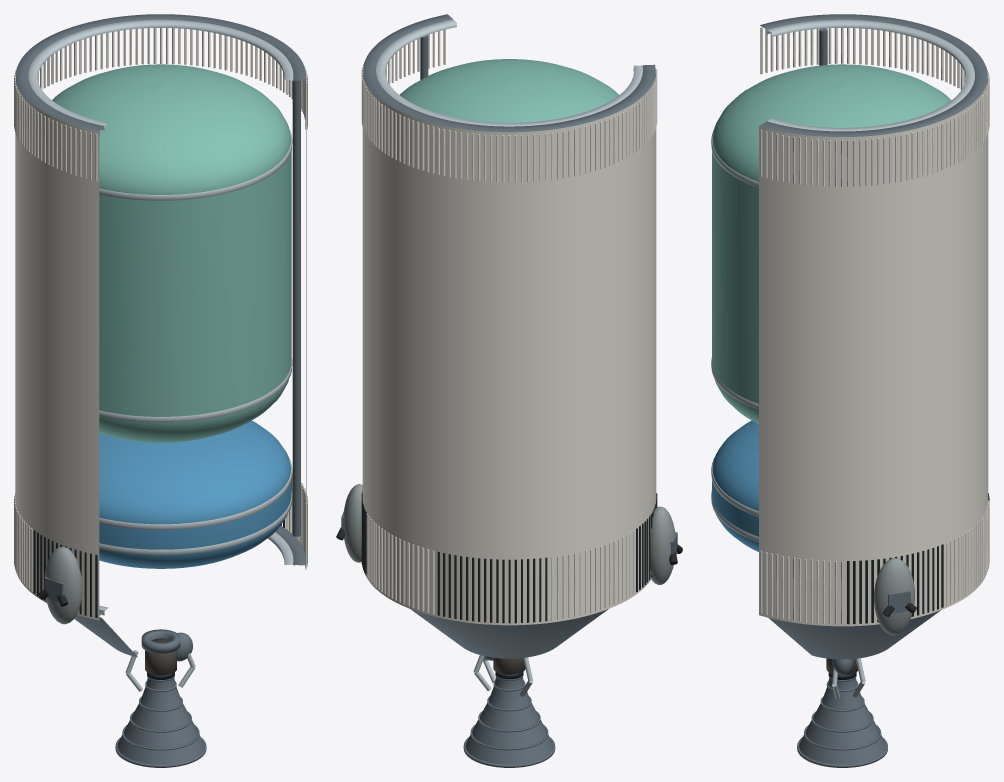
Rendered from s_ivb_cutaway.glb.
The picture shows the model from 3 angles, left to right: view 1: azimuth 30°, elevation 25°; view 2: azimuth 150°, elevation 25°; view 3: azimuth 270°, elevation 25°; orthographic projection.
Parts seen in each view (by area): view 1: s_ivb.cutaway.lh2_tank.mesh, s_ivb.skin.mesh, s_ivb.cutaway.lox_tank.mesh, s_ivb.mesh, s_ivb.j2_01.nozzle.mesh, s_ivb.cutaway.mesh, s_ivb.aps_02.mesh, s_ivb.j2_01.mesh; view 2: s_ivb.skin.mesh, s_ivb.mesh, s_ivb.cutaway.lh2_tank.mesh, s_ivb.j2_01.nozzle.mesh, s_ivb.aps_02.mesh, s_ivb.aps_01.mesh, s_ivb.j2_01.mesh; view 3: s_ivb.skin.mesh, s_ivb.cutaway.lh2_tank.mesh, s_ivb.mesh, s_ivb.j2_01.nozzle.mesh, s_ivb.cutaway.lox_tank.mesh, s_ivb.aps_01.mesh, s_ivb.j2_01.mesh.
Part boxes in pixels (bbox=[...]): s_ivb.cutaway.lh2_tank.mesh: bbox=[52, 64, 292, 442]; s_ivb.skin.mesh: bbox=[14, 28, 307, 620]; s_ivb.cutaway.lox_tank.mesh: bbox=[99, 420, 292, 568]; s_ivb.mesh: bbox=[16, 14, 305, 657]; s_ivb.j2_01.nozzle.mesh: bbox=[115, 672, 206, 767]; s_ivb.cutaway.mesh: bbox=[292, 80, 300, 536]; s_ivb.aps_02.mesh: bbox=[38, 546, 82, 624]; s_ivb.j2_01.mesh: bbox=[125, 629, 195, 691]; s_ivb.skin.mesh: bbox=[361, 29, 657, 625]; s_ivb.mesh: bbox=[363, 14, 655, 658]; s_ivb.cutaway.lh2_tank.mesh: bbox=[400, 59, 618, 122]; s_ivb.j2_01.nozzle.mesh: bbox=[463, 672, 555, 767]; s_ivb.aps_02.mesh: bbox=[650, 506, 682, 584]; s_ivb.aps_01.mesh: bbox=[336, 484, 362, 562]; s_ivb.j2_01.mesh: bbox=[473, 655, 532, 696]; s_ivb.skin.mesh: bbox=[759, 27, 989, 626]; s_ivb.cutaway.lh2_tank.mesh: bbox=[711, 64, 951, 423]; s_ivb.mesh: bbox=[759, 14, 987, 659]; s_ivb.j2_01.nozzle.mesh: bbox=[797, 672, 887, 767]; s_ivb.cutaway.lox_tank.mesh: bbox=[711, 420, 758, 551]; s_ivb.aps_01.mesh: bbox=[874, 558, 916, 635]; s_ivb.j2_01.mesh: bbox=[826, 658, 865, 698].
Bounding box in the file's own units: 7.56 × 16.84 × 6.31.
